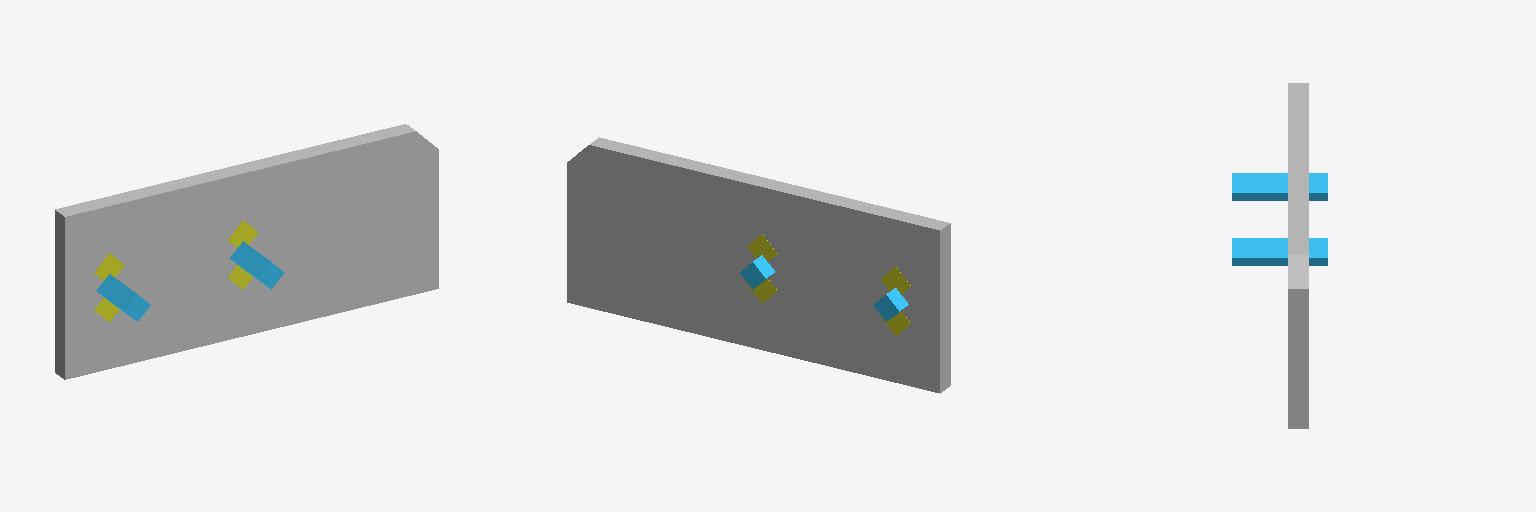
File: shop_1042.obj
3 renders of one model, left to right at view 1: azimuth 30°, elevation 25°; view 2: azimuth 150°, elevation 25°; view 3: azimuth 270°, elevation 25°, orthographic.
Parts seen in each view (by area): view 1: 1042 111558 PL8x70 SCHOT S235JR, M12x30 1 0_4017ISO 8.8 111563, L14x16 6     111560; view 2: 1042 111558 PL8x70 SCHOT S235JR, L14x16 6     111560, M12x30 1 0_4017ISO 8.8 111563; view 3: 1042 111558 PL8x70 SCHOT S235JR, M12x30 1 0_4017ISO 8.8 111563.
Boxes of the visible parts, <box> form: 1042 111558 PL8x70 SCHOT S235JR: <box>55,124,438,379</box>; M12x30 1 0_4017ISO 8.8 111563: <box>96,241,284,321</box>; L14x16 6     111560: <box>94,220,258,322</box>; 1042 111558 PL8x70 SCHOT S235JR: <box>567,137,950,393</box>; L14x16 6     111560: <box>747,234,910,335</box>; M12x30 1 0_4017ISO 8.8 111563: <box>739,255,908,321</box>; 1042 111558 PL8x70 SCHOT S235JR: <box>1288,83,1308,428</box>; M12x30 1 0_4017ISO 8.8 111563: <box>1232,173,1327,265</box>.
Bounding box in the file's own units: 168 × 70 × 37.5.